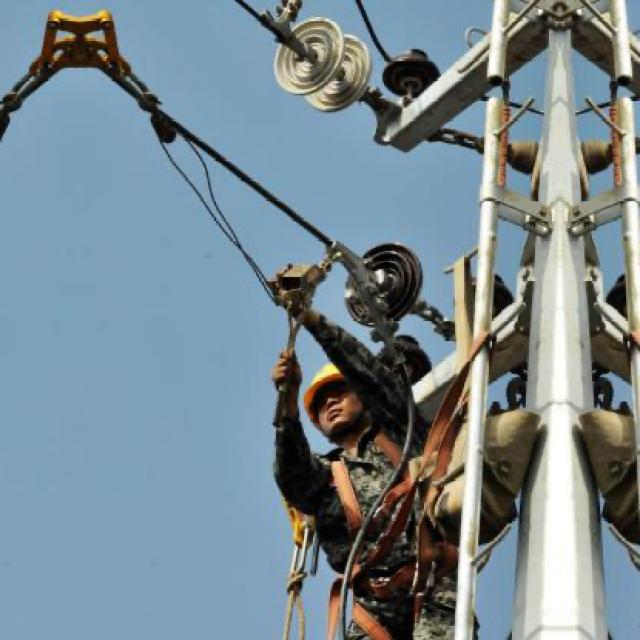helmet: (298, 359, 366, 446)
